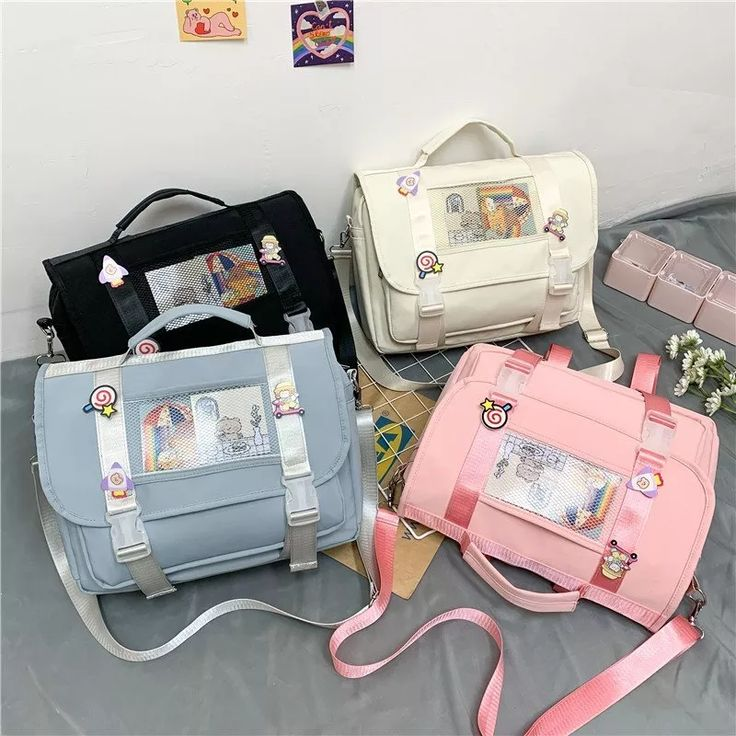nylon: (28, 118, 720, 736)
